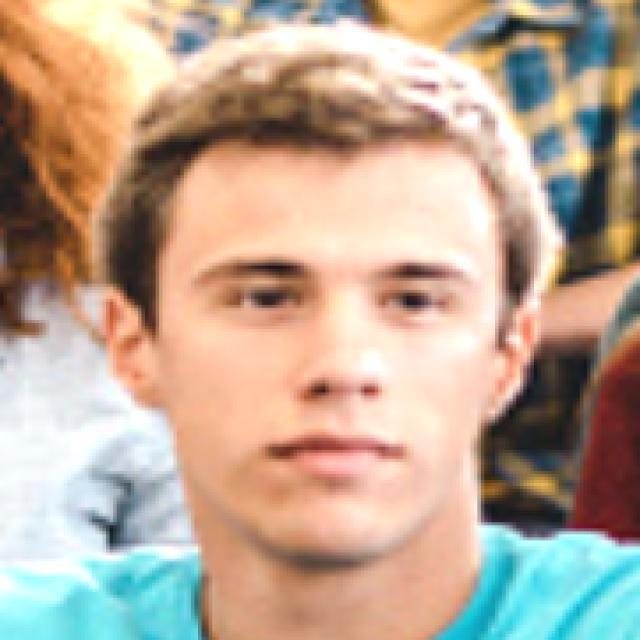Looking forward: (163, 141, 517, 565)
